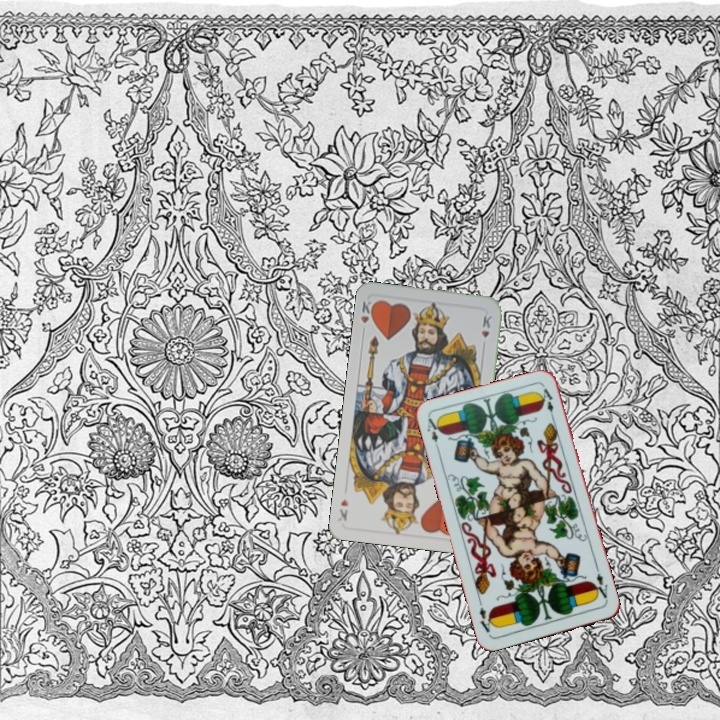EA: (423, 414, 444, 454), (589, 569, 611, 604)
HK: (357, 296, 378, 336)
